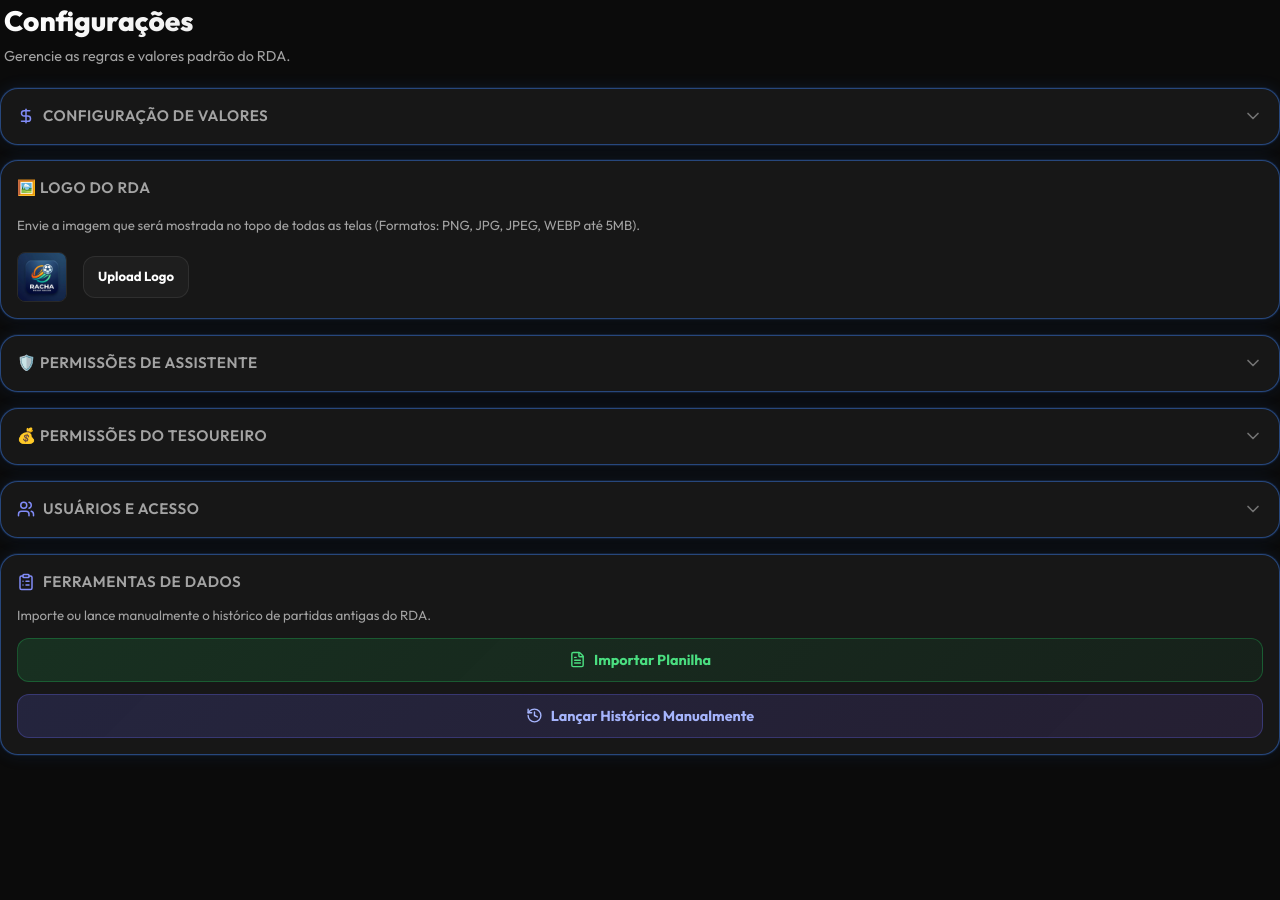
Test: RDA — Nova Funcionalidade: Ajuste do Saldo Acumulado com Permissão Controlada › 6. Somente o administrador pode alterar as permissões de ajuste › Na tela de configurações, a seção de permissões de assistente contém a opção Ajustar Saldo Acumulado
# Abre a sanfona de permissões
Click the text "🛡️ Permissões de Assistente" at (137, 364), box [17,352,258,375]
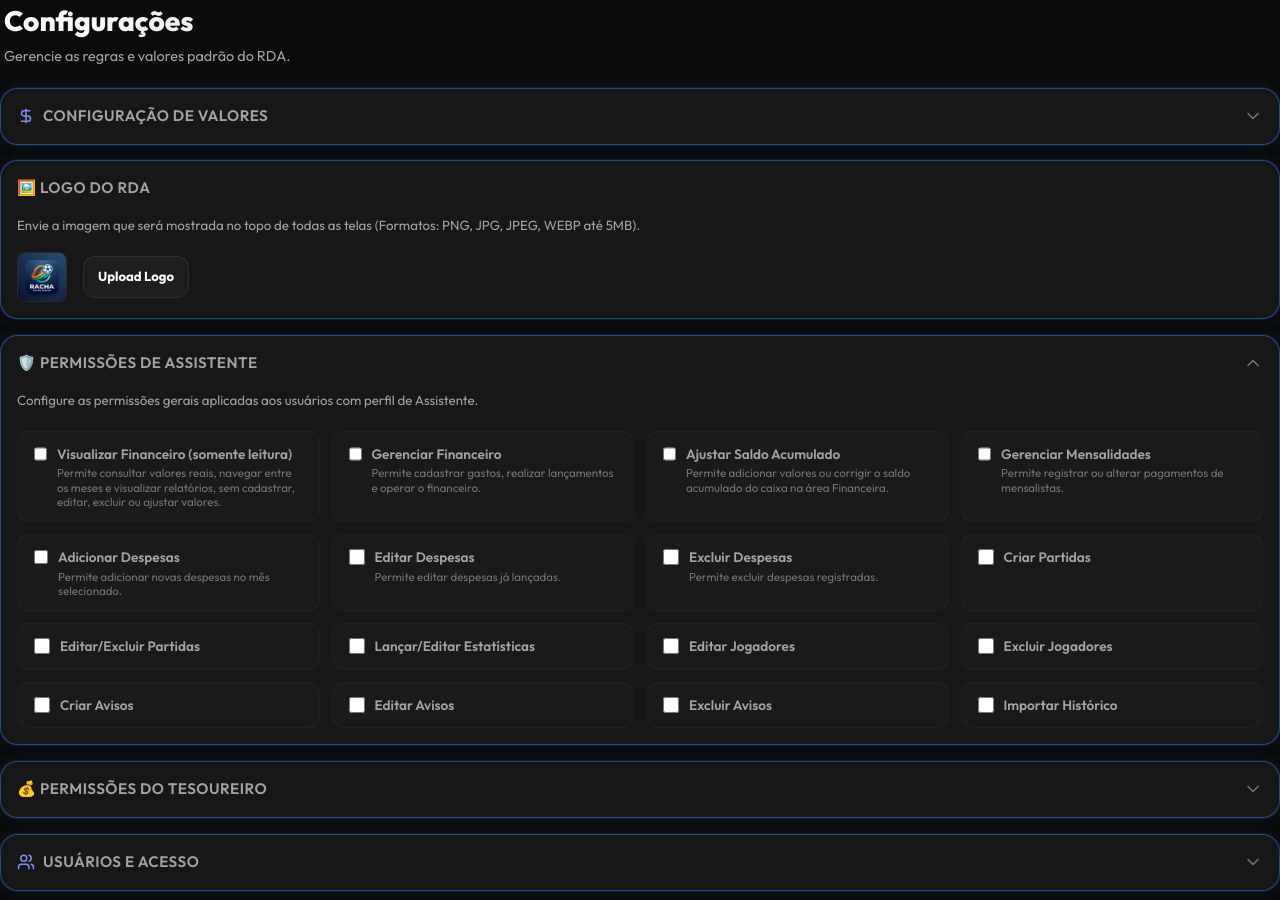
Expected: the text "Ajustar Saldo Acumulado" is shown, [686,445,840,463]
Expected: the text "Permite adicionar valores ou corrigir o saldo acumulado" is shown, [686,465,910,495]
